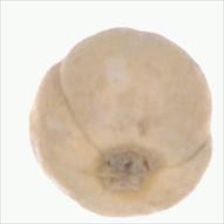L4: (27, 26, 214, 217)
